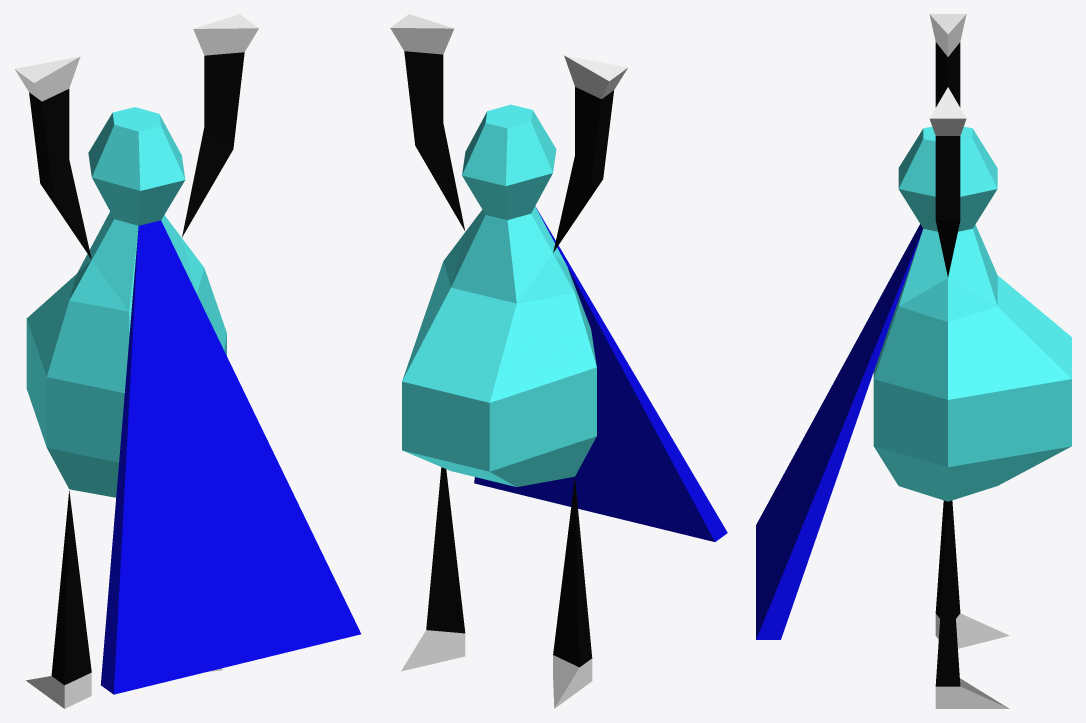
Rendered from player.glb.
3 views of the same model, side by side, from view 1: azimuth 30°, elevation 25°; view 2: azimuth 150°, elevation 25°; view 3: azimuth 270°, elevation 25° (orthographic). The views are drawn at different scales.
Parts seen in each view (by area): view 1: Body; view 2: Body; view 3: Body.
Part boxes in pixels (left/top/right/bottom): Body: left=15, top=14, right=360, bottom=708; Body: left=390, top=14, right=727, bottom=708; Body: left=756, top=14, right=1071, bottom=708.
Bounding box in the file's own units: 0.6875 × 1.7 × 0.7969.
1 material, 1 textured.
